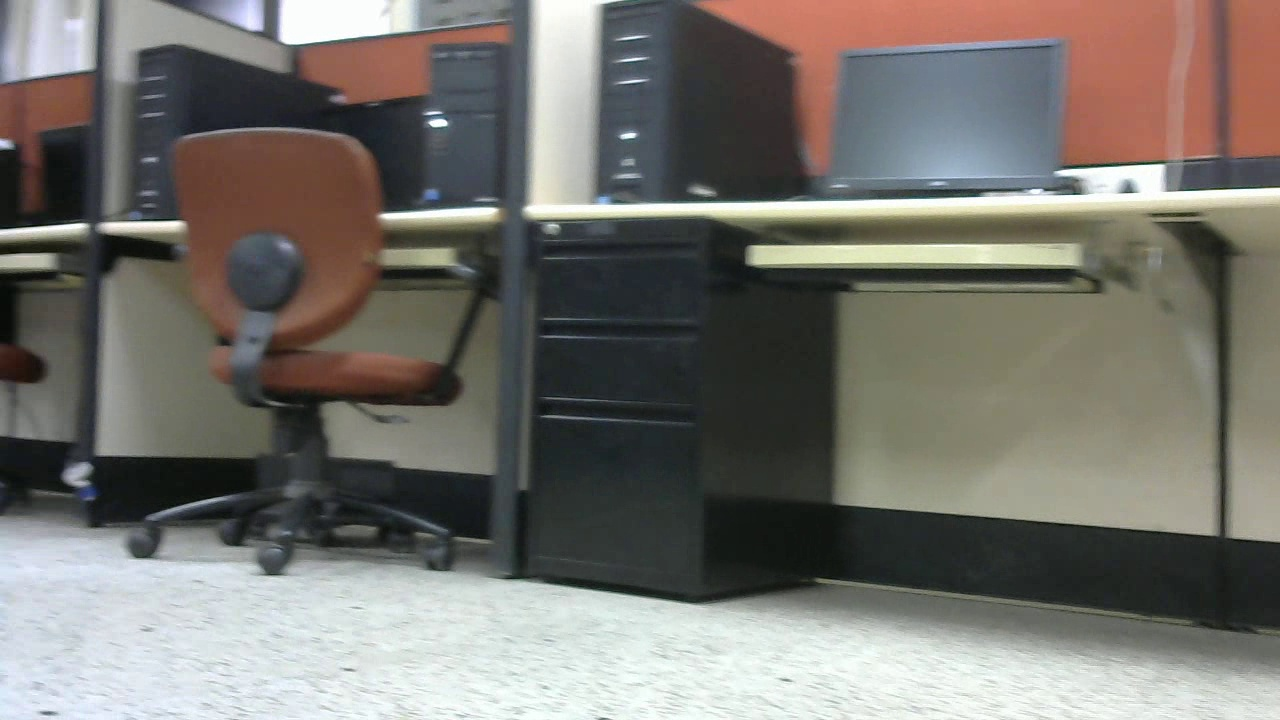chair: (124, 124, 506, 574)
